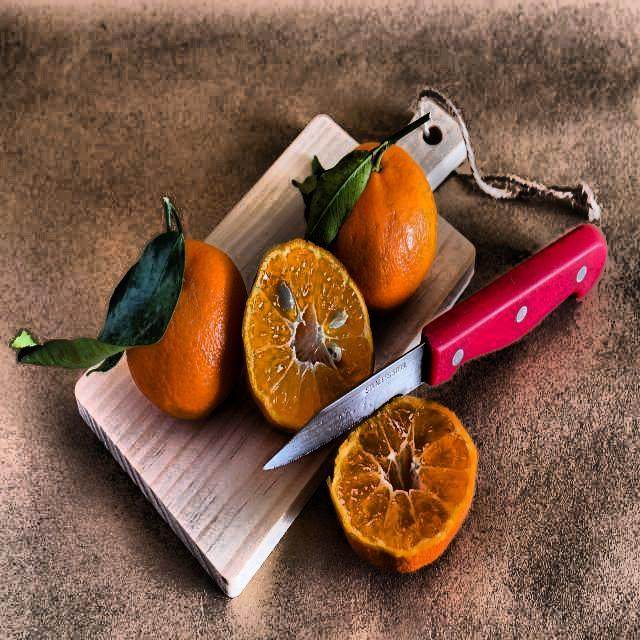knife: (258, 219, 611, 480)
